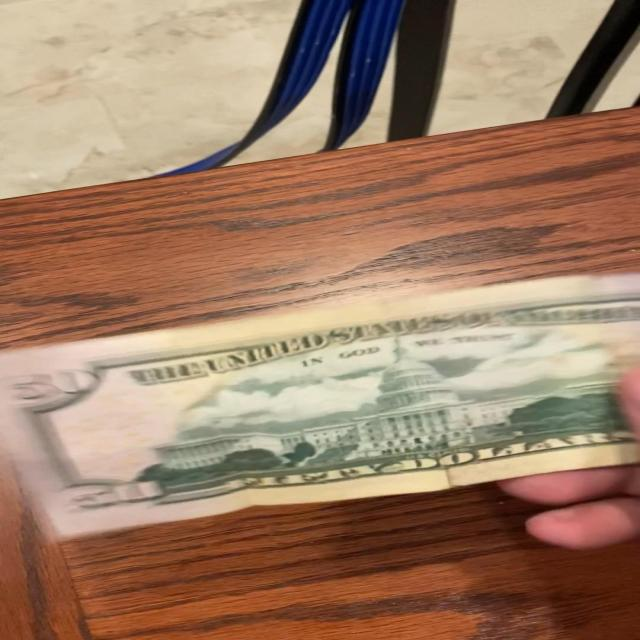50-Front: (0, 275, 640, 543)
